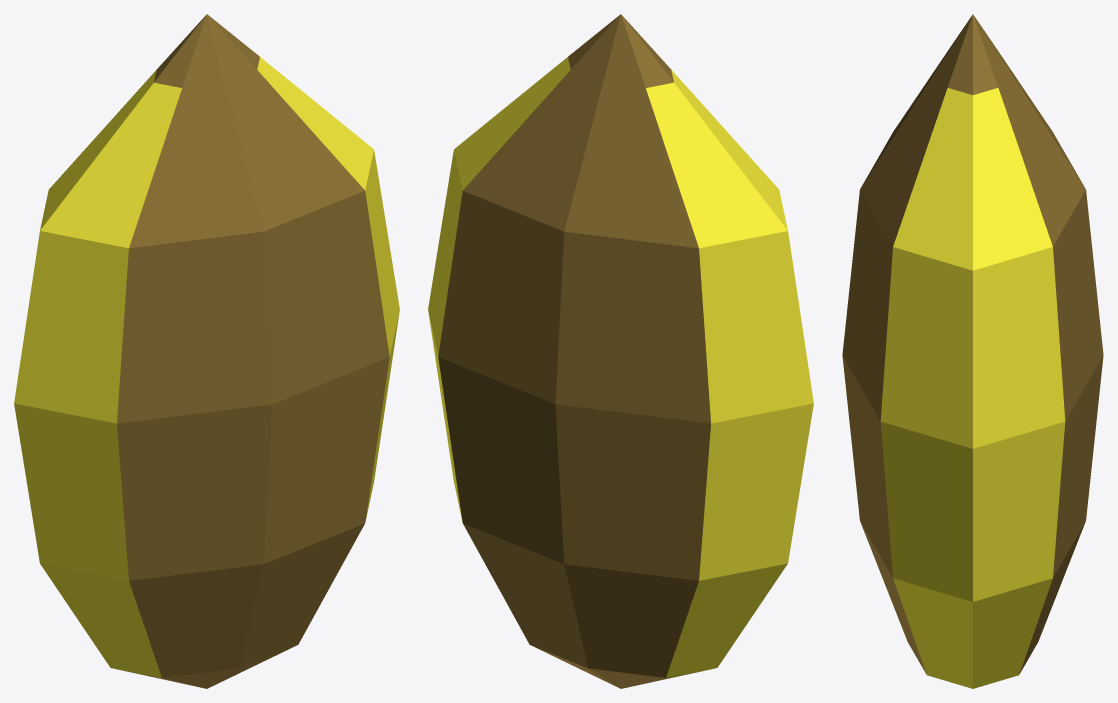
File: seed.glb
3 views of the same model, side by side, from view 1: azimuth 30°, elevation 25°; view 2: azimuth 150°, elevation 25°; view 3: azimuth 270°, elevation 25° (orthographic).
Visible parts, largest first — view 1: S; view 2: S; view 3: S.
Part boxes in pixels (x1=…): S: x1=14, y1=14, x2=399, y2=688; S: x1=428, y1=14, x2=813, y2=688; S: x1=842, y1=14, x2=1103, y2=688.
Bounding box in the file's own units: 0.17 × 0.2842 × 0.1.
